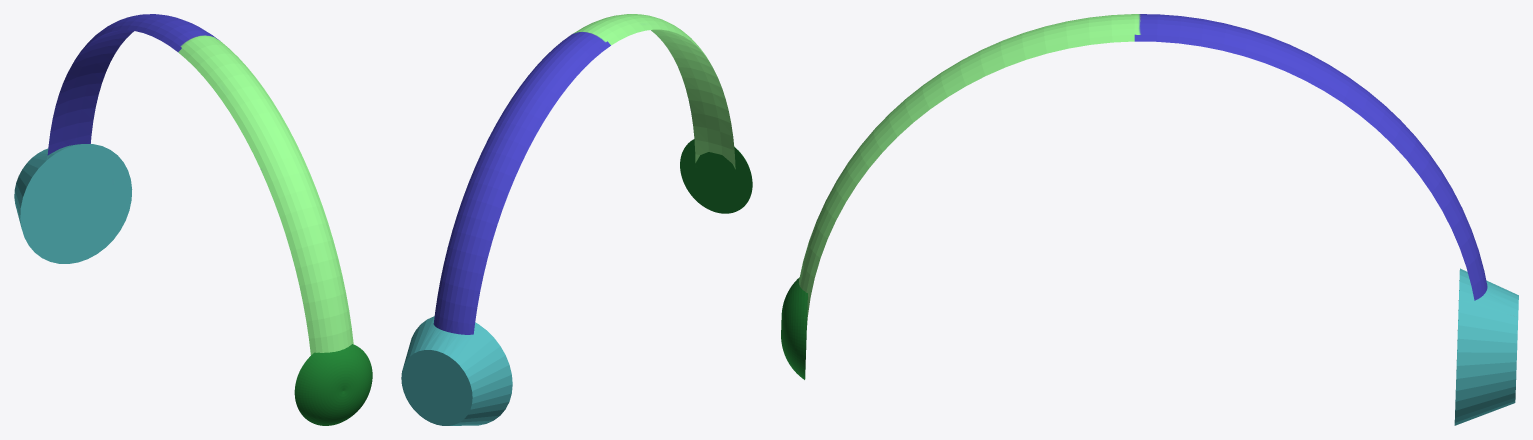
3 renders of one model, left to right at view 1: azimuth 30°, elevation 25°; view 2: azimuth 150°, elevation 25°; view 3: azimuth 270°, elevation 25°, orthographic. The views are drawn at different scales.
Parts seen in each view (by area): view 1: 20140320_littleLine2; view 2: 20140320_littleLine2; view 3: 20140320_littleLine2.
Boxes of the visible parts, <box> form: 20140320_littleLine2: <box>14,14,372,425</box>; 20140320_littleLine2: <box>401,14,752,425</box>; 20140320_littleLine2: <box>781,14,1518,425</box>.
Bounding box in the file's own units: 9.35 × 25.88 × 43.65.
Materials: 1 (1 with a texture image).
